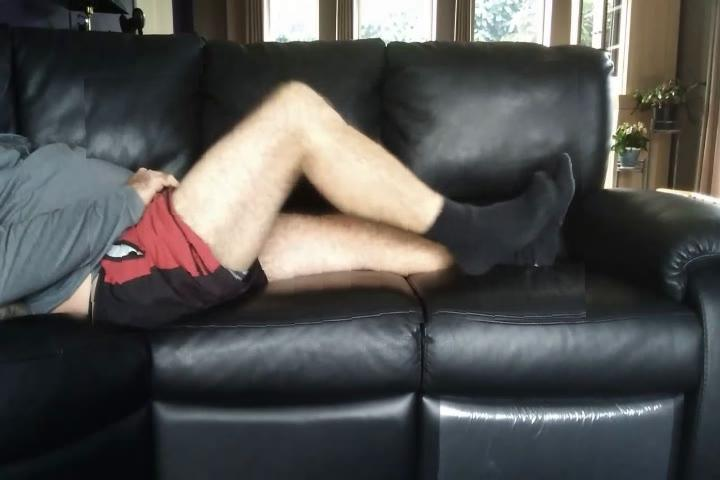lower_body: (87, 66, 585, 331)
